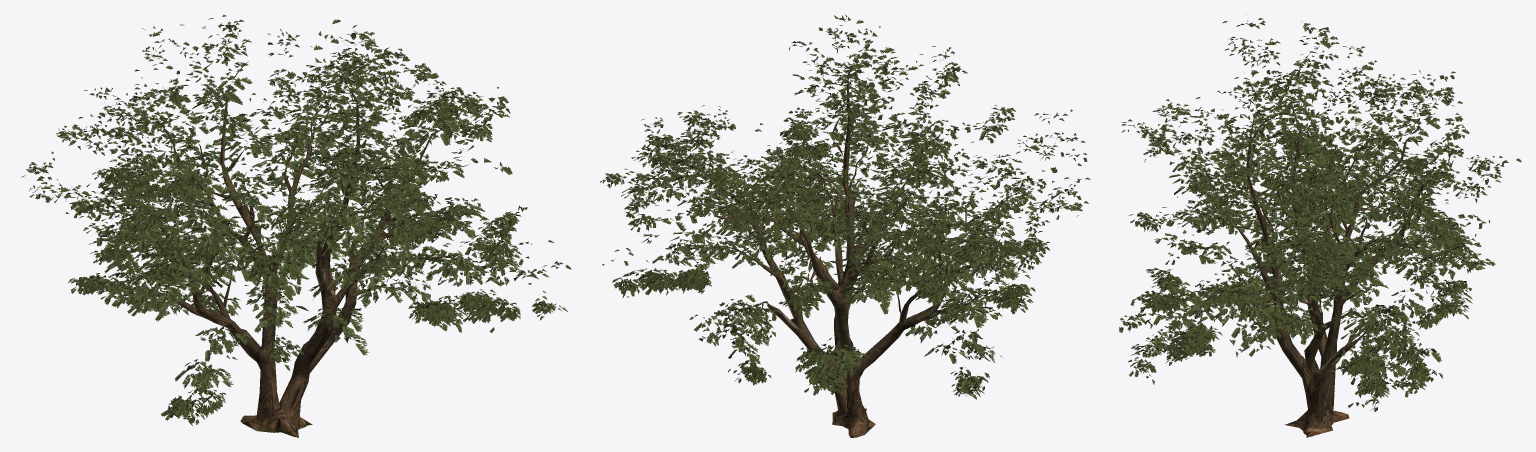
The model's file is jacaranda.glb.
The picture shows the model from 3 angles, left to right: view 1: azimuth 30°, elevation 25°; view 2: azimuth 150°, elevation 25°; view 3: azimuth 270°, elevation 25°; orthographic projection. The views are drawn at different scales.
Visible parts, largest first — view 1: jacaranda; view 2: jacaranda; view 3: jacaranda.
Boxes of the visible parts, x1,y1,x2,y2 form: jacaranda: (21, 14, 571, 437); jacaranda: (600, 14, 1090, 437); jacaranda: (1119, 18, 1521, 437).
Bounding box in the file's own units: 23.9 × 19.23 × 18.83.
3 materials, 3 textured.
